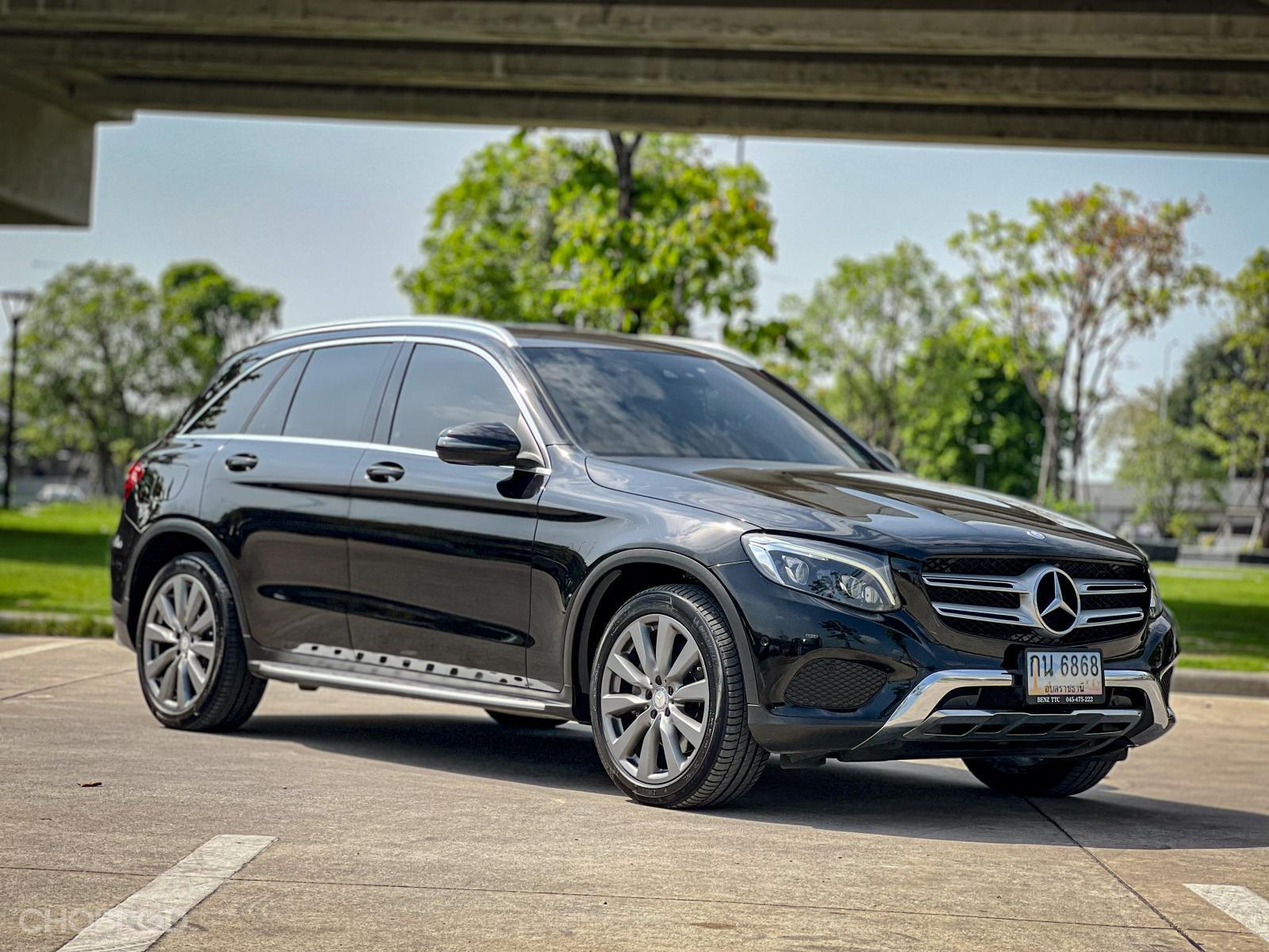license-plate: (1020, 645, 1113, 711)
